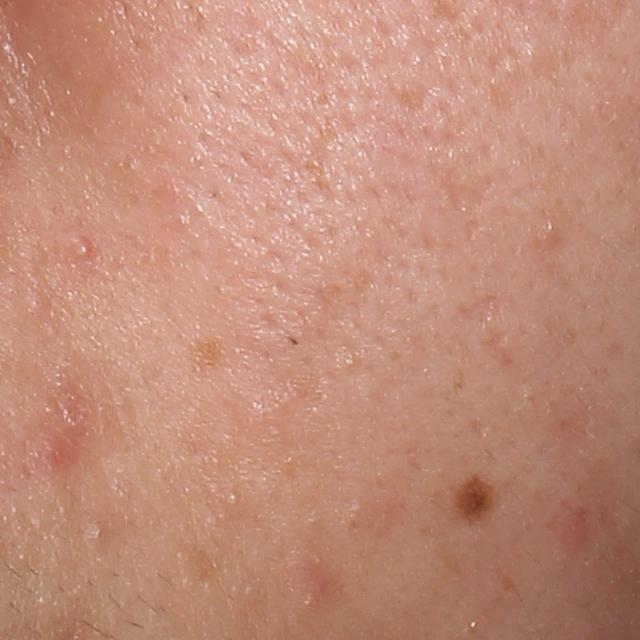atrophic_scar: (263, 124, 357, 203), (443, 155, 490, 228), (375, 74, 451, 117), (460, 293, 506, 341)
comedo: (90, 521, 111, 545), (541, 223, 562, 247), (227, 488, 239, 506)
nevus: (452, 472, 502, 519)
papule: (297, 557, 336, 613)
